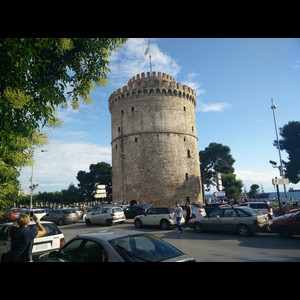White Tower: (104, 42, 206, 207)
